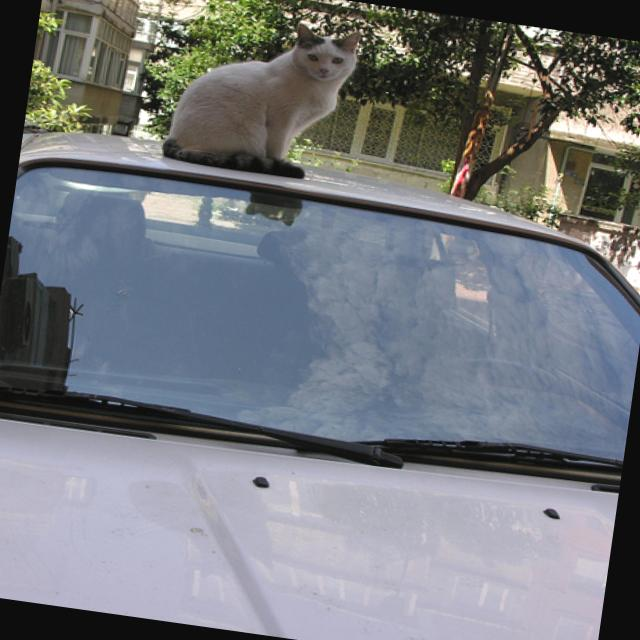Vehicle: (0, 118, 640, 640), (14, 87, 68, 200)
